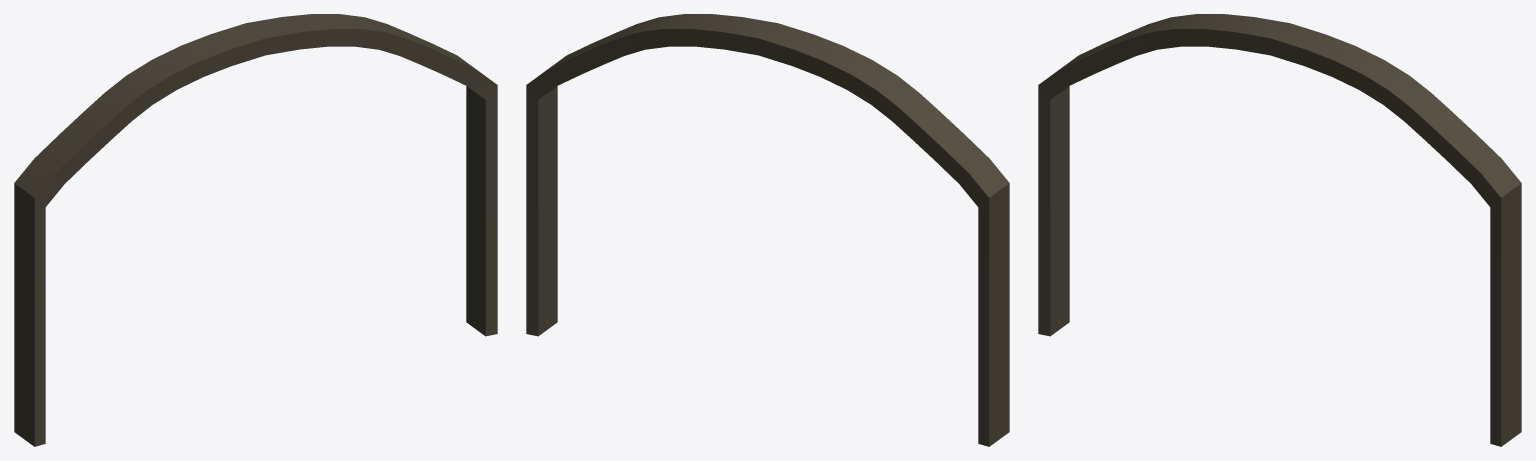
File: BigArchFrame.fbx
The picture shows the model from 3 angles, left to right: view 1: azimuth 30°, elevation 25°; view 2: azimuth 150°, elevation 25°; view 3: azimuth 330°, elevation 25°; orthographic projection.
Visible parts, largest first — view 1: BigArchFrame; view 2: BigArchFrame; view 3: BigArchFrame.
Boxes of the visible parts, x1=… form: BigArchFrame: x1=14, y1=14, x2=497, y2=446; BigArchFrame: x1=526, y1=14, x2=1009, y2=446; BigArchFrame: x1=1038, y1=14, x2=1521, y2=446.
Size of the model in its own units: 392 by 29.95 by 285.
